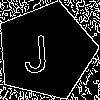J: (21, 26, 50, 74)
